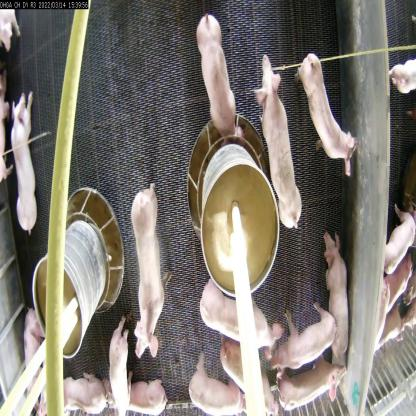Pig: (292, 44, 361, 183), (315, 209, 368, 377), (192, 267, 287, 360), (248, 53, 298, 222), (125, 180, 168, 357), (192, 2, 239, 155), (211, 324, 285, 415), (10, 79, 40, 233), (269, 304, 338, 362), (99, 313, 137, 415), (116, 362, 185, 415), (274, 342, 342, 395), (194, 359, 253, 415), (50, 357, 106, 415)
